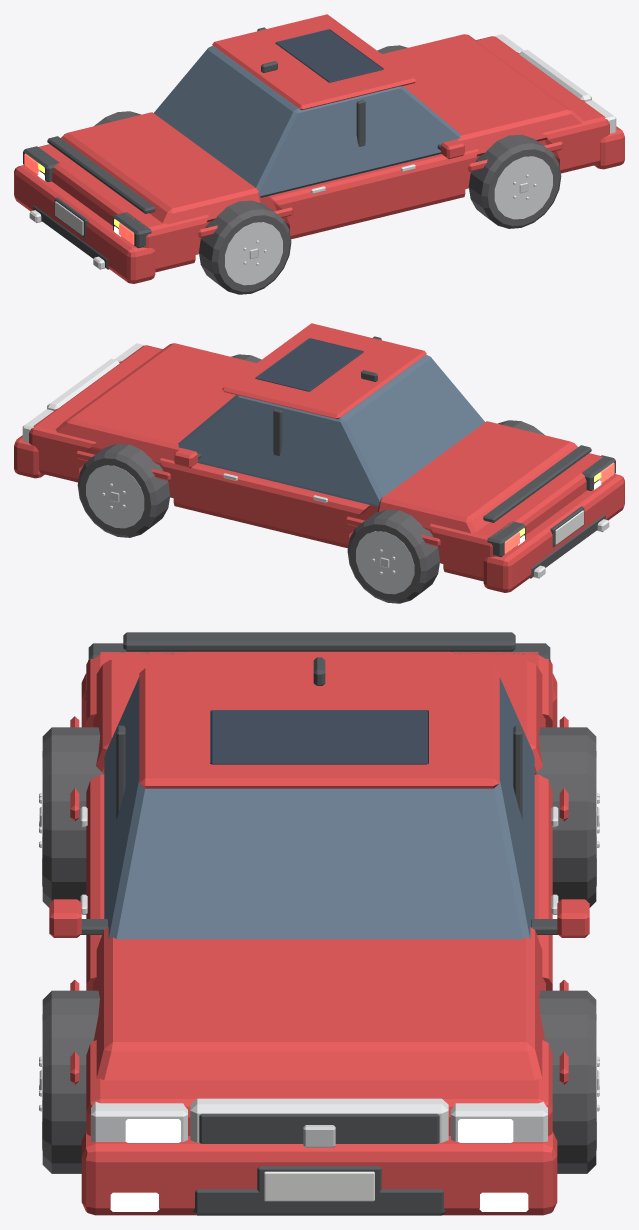
File: Sedan.glb
3 renders of one model, top to bottom at view 1: azimuth 30°, elevation 25°; view 2: azimuth 150°, elevation 25°; view 3: azimuth 270°, elevation 25°, orthographic. The views are drawn at different scales.
Parts seen in each view (by area): view 1: Sedan_Body, Sedan_Wheel_RR, Sedan_Wheel_FR; view 2: Sedan_Body, Sedan_Wheel_RL, Sedan_Wheel_FL; view 3: Sedan_Body, Sedan_Wheel_FL, Sedan_Wheel_FR, Sedan_Wheel_RL, Sedan_Wheel_RR.
Boxes of the visible parts, x1,y1,x2,y2 form: Sedan_Body: (14,14,624,283); Sedan_Wheel_RR: (199,200,291,294); Sedan_Wheel_FR: (468,134,561,228); Sedan_Body: (14,323,624,592); Sedan_Wheel_RL: (347,509,439,603); Sedan_Wheel_FL: (77,443,170,537); Sedan_Body: (49,632,589,1215); Sedan_Wheel_FL: (539,990,599,1173); Sedan_Wheel_FR: (39,990,99,1173); Sedan_Wheel_RL: (534,727,599,907); Sedan_Wheel_RR: (39,727,104,907).
Size of the model in its own units: 5.07 by 1.54 by 2.43.
